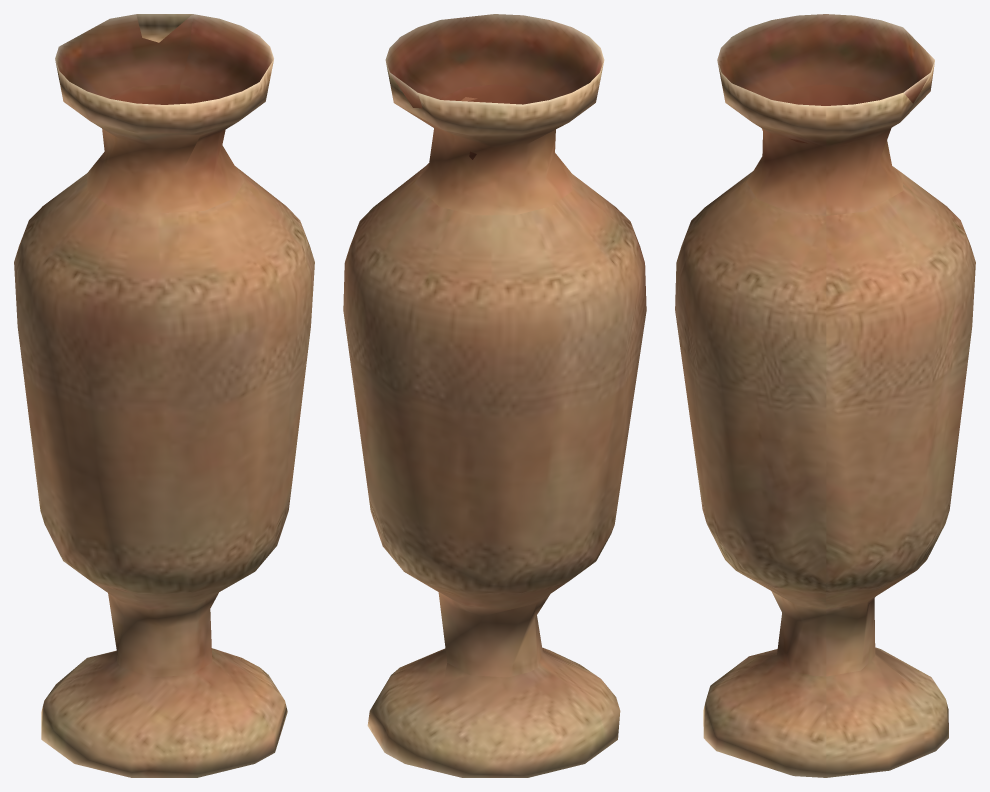
File: brass_vase_03.glb
The picture shows the model from 3 angles, left to right: view 1: azimuth 30°, elevation 25°; view 2: azimuth 150°, elevation 25°; view 3: azimuth 270°, elevation 25°; orthographic projection.
Parts seen in each view (by area): view 1: brass_vase_03; view 2: brass_vase_03; view 3: brass_vase_03.
Part boxes in pixels (bbox=[...]): brass_vase_03: bbox=[14, 14, 314, 777]; brass_vase_03: bbox=[343, 14, 646, 777]; brass_vase_03: bbox=[675, 14, 975, 777].
Size of the model in its own units: 0.0821 by 0.2 by 0.0821.
1 material, 1 textured.
